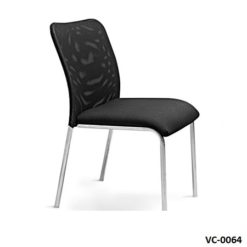chairs: (44, 17, 202, 214)
